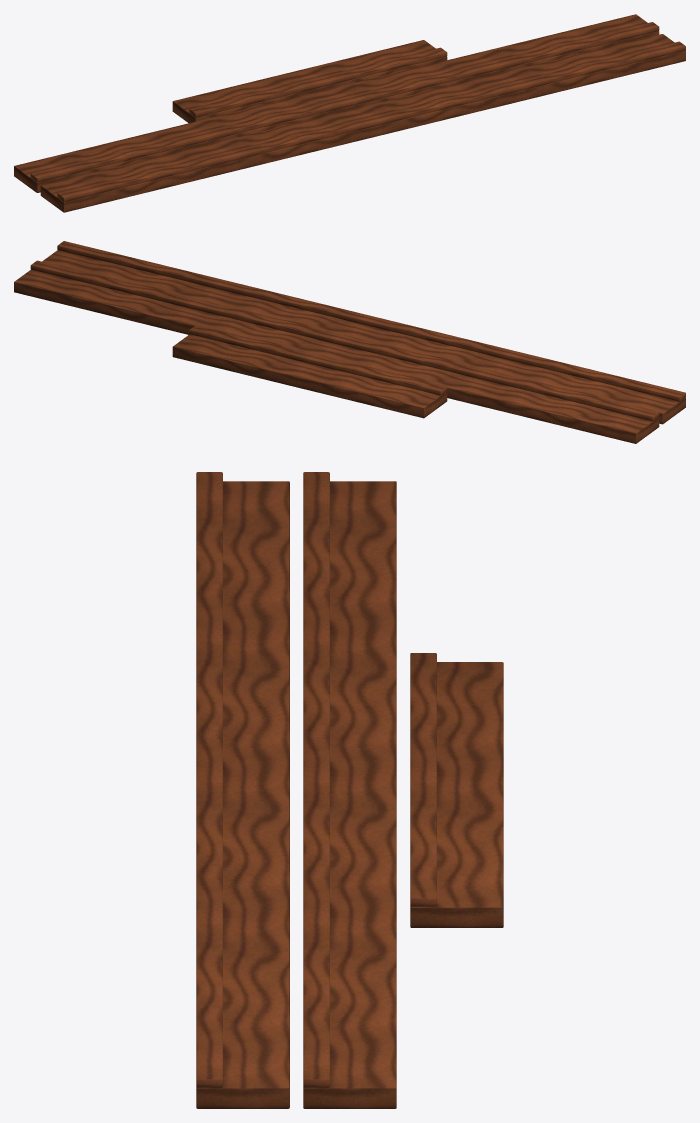
File: ESQ-PMD-004.glb
3 views of the same model, one above another, from view 1: azimuth 30°, elevation 25°; view 2: azimuth 150°, elevation 25°; view 3: azimuth 270°, elevation 25° (orthographic). The views are drawn at different scales.
Visible parts, largest first — view 1: ESQ-PMD-004_peca_e, ESQ-PMD-004_peca_d, ESQ-PMD-004_rebaixo_d, ESQ-PMD-004_rebaixo_e, ESQ-PMD-004_peca_c, ESQ-PMD-004_rebaixo_c; view 2: ESQ-PMD-004_peca_d, ESQ-PMD-004_peca_e, ESQ-PMD-004_peca_c, ESQ-PMD-004_rebaixo_d, ESQ-PMD-004_rebaixo_e, ESQ-PMD-004_rebaixo_c; view 3: ESQ-PMD-004_peca_d, ESQ-PMD-004_peca_e, ESQ-PMD-004_peca_c, ESQ-PMD-004_rebaixo_d, ESQ-PMD-004_rebaixo_e, ESQ-PMD-004_rebaixo_c.
Boxes of the visible parts, bbox=[...] form: ESQ-PMD-004_peca_e: bbox=[40, 34, 685, 212]; ESQ-PMD-004_peca_d: bbox=[14, 14, 659, 192]; ESQ-PMD-004_rebaixo_d: bbox=[30, 22, 659, 182]; ESQ-PMD-004_rebaixo_e: bbox=[57, 41, 685, 201]; ESQ-PMD-004_peca_c: bbox=[172, 40, 447, 123]; ESQ-PMD-004_rebaixo_c: bbox=[189, 47, 447, 117]; ESQ-PMD-004_peca_d: bbox=[14, 269, 659, 443]; ESQ-PMD-004_peca_e: bbox=[42, 250, 685, 424]; ESQ-PMD-004_peca_c: bbox=[172, 334, 447, 418]; ESQ-PMD-004_rebaixo_d: bbox=[30, 260, 659, 420]; ESQ-PMD-004_rebaixo_e: bbox=[57, 241, 685, 401]; ESQ-PMD-004_rebaixo_c: bbox=[189, 325, 447, 395]; ESQ-PMD-004_peca_d: bbox=[303, 481, 396, 1108]; ESQ-PMD-004_peca_e: bbox=[196, 481, 289, 1108]; ESQ-PMD-004_peca_c: bbox=[410, 662, 503, 927]; ESQ-PMD-004_rebaixo_d: bbox=[303, 472, 329, 1087]; ESQ-PMD-004_rebaixo_e: bbox=[196, 472, 222, 1087]; ESQ-PMD-004_rebaixo_c: bbox=[410, 653, 436, 906].
Bounding box in the file's own units: 2.15 × 0.05 × 0.46.
1 material, 1 textured.
